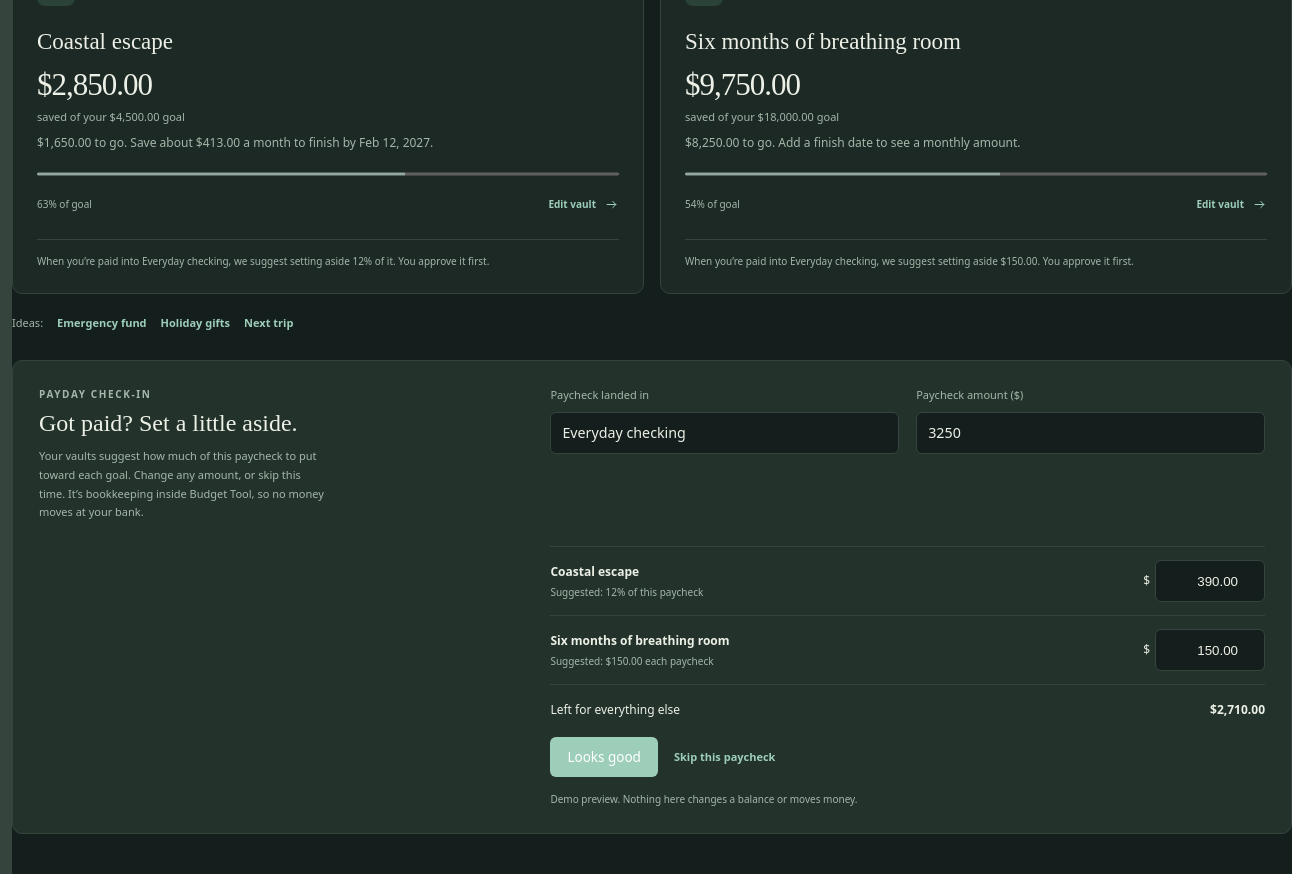
demo vault allocation review › caps overlapping suggestions, rejects over-allocation, and leaves account balances untouched
(page scrolled)
Replace the text in the number field labelled "Coastal escape Suggested: 12% of this paycheck $" with "3200" at [1210, 581], box [1155,560,1265,602]
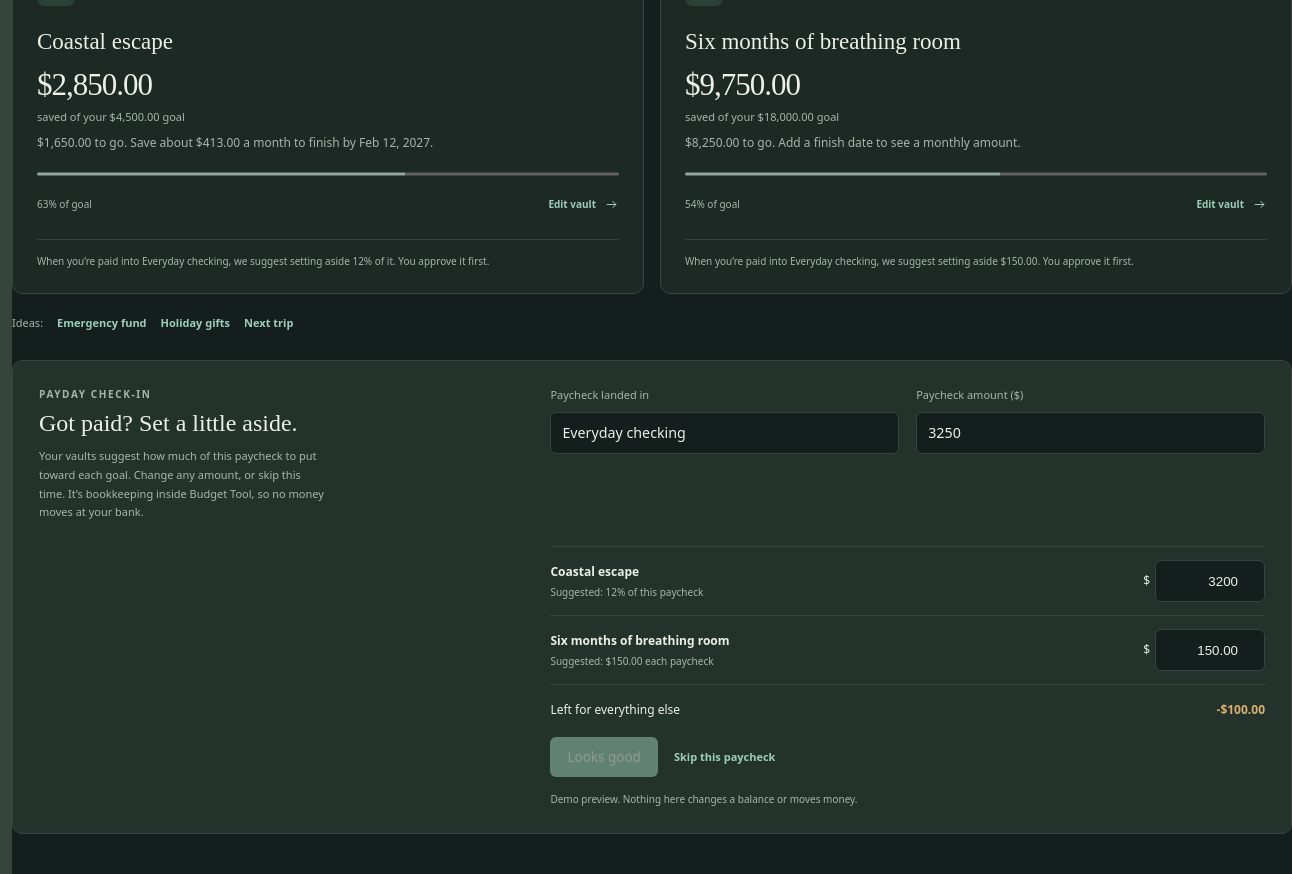
Check: the element showing "Left for everything else -$100.00" is shown, box [550,701,1265,718]
Check: the button "Looks good" is disabled, box [550,737,658,777]
Replace the text in the number field labelled "Coastal escape Suggested: 12% of this paycheck $" with "300" at [1210, 581], box [1155,560,1265,602]
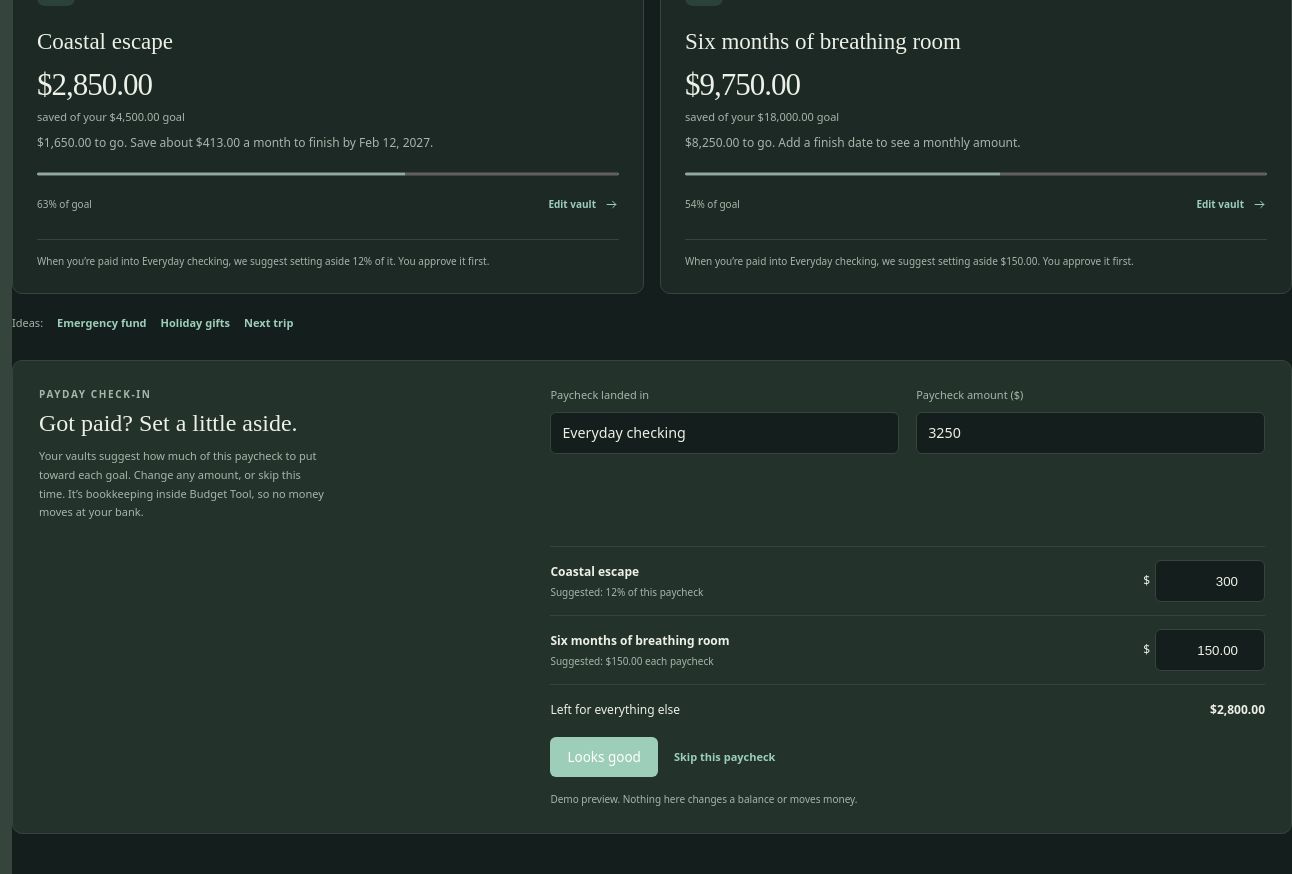
Click the button "Looks good".
click(604, 757)  # box [550,737,658,777]
(page scrolled)
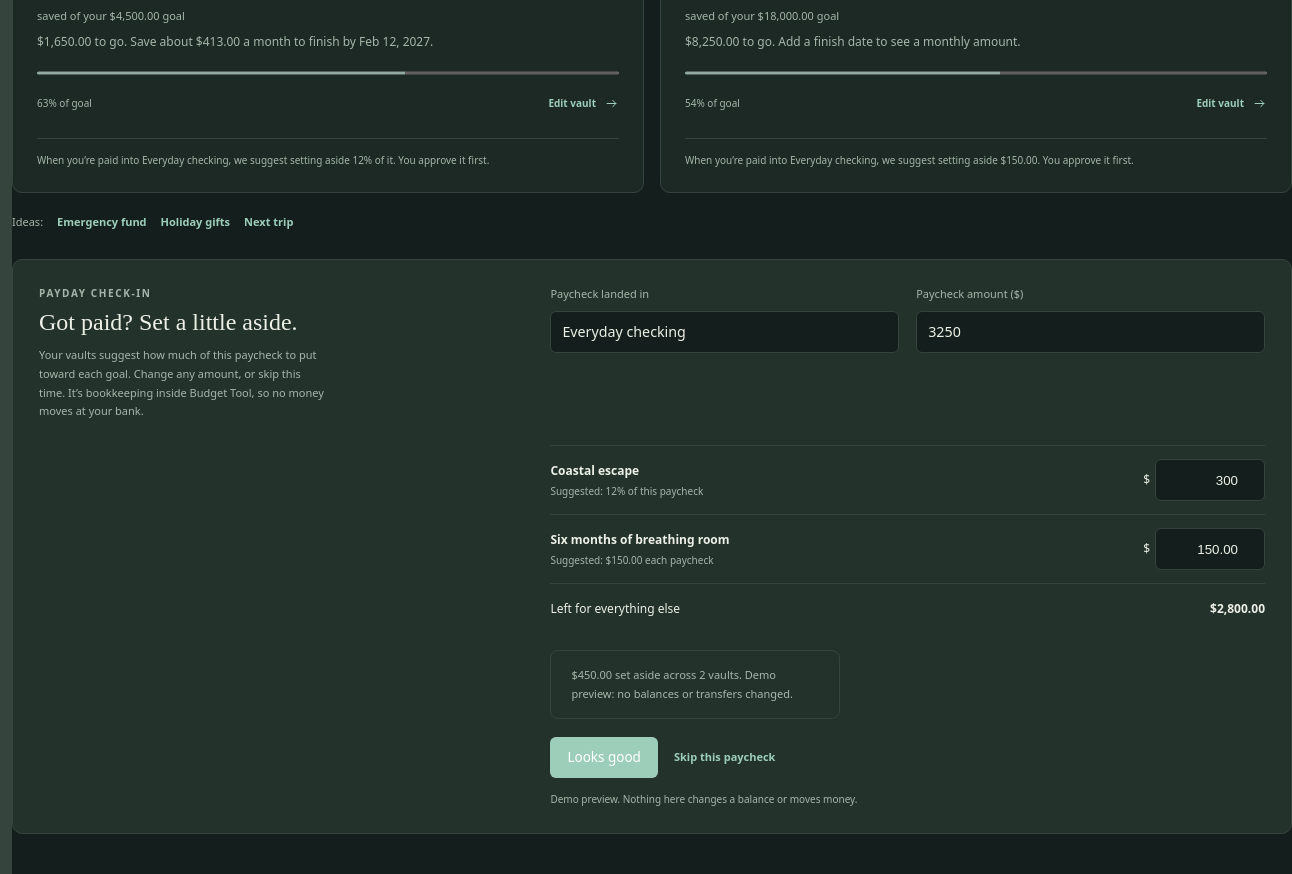
Check: the message shows "no balances or transfers changed", box [571,667,793,701]
Click the button "Skip this paycheck".
click(725, 757)  # box [674,735,775,779]
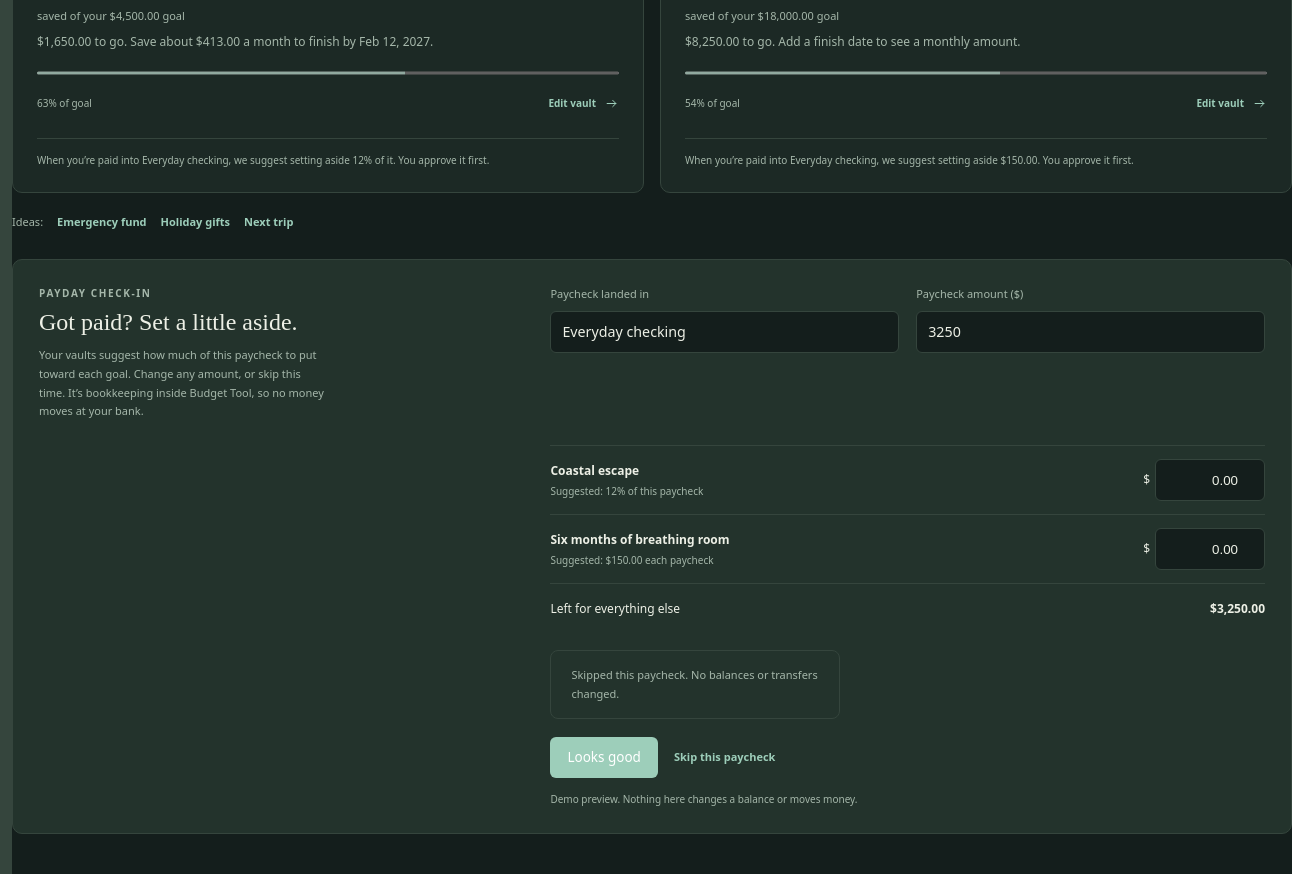
Check: the element showing "Left for everything else $3,250.00" is shown, box [550,600,1265,617]
